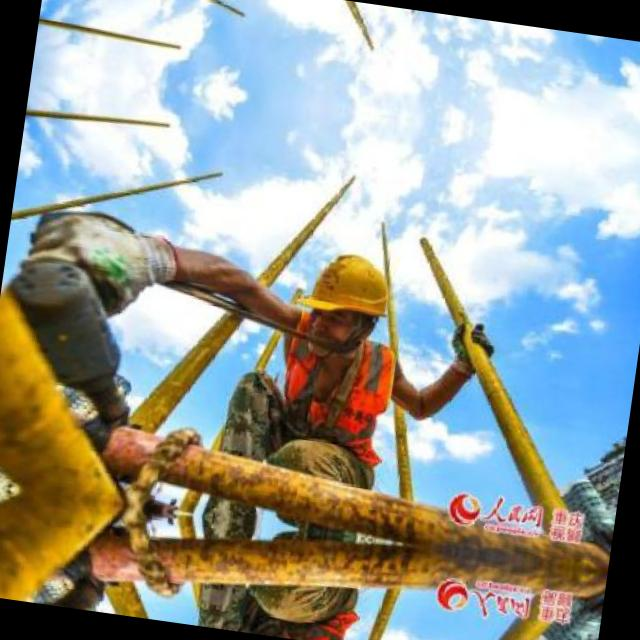helmet: (284, 237, 406, 371)
